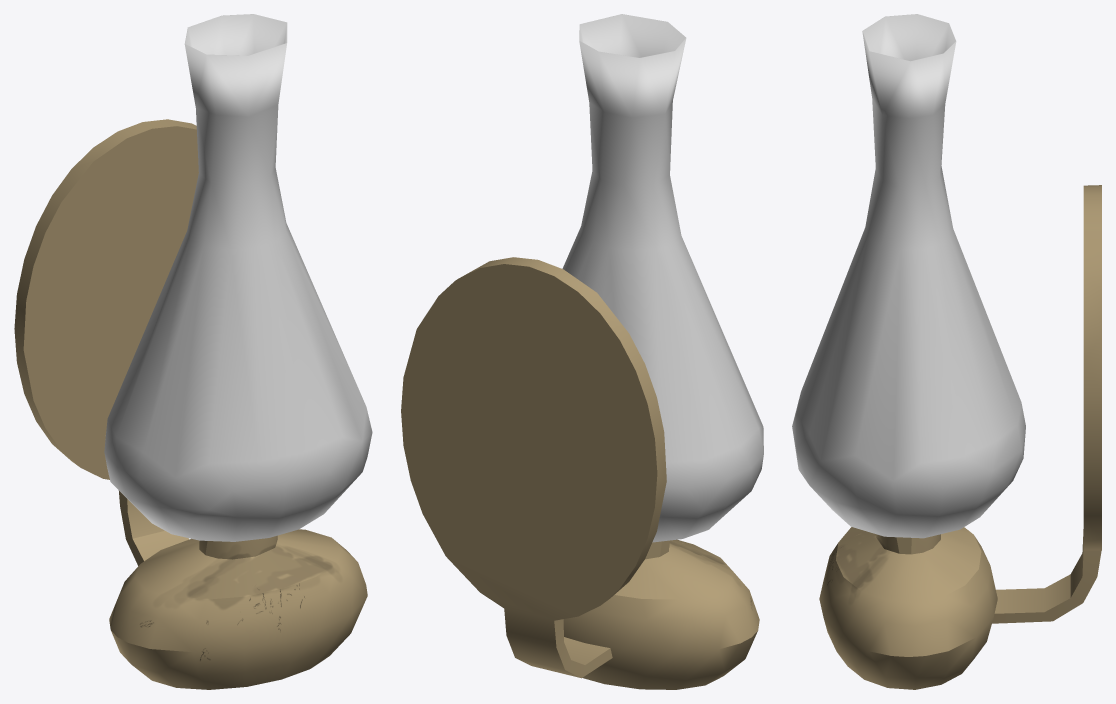
Rendered from Lamp_Wall.fbx.
3 renders of one model, left to right at view 1: azimuth 30°, elevation 25°; view 2: azimuth 150°, elevation 25°; view 3: azimuth 270°, elevation 25°, orthographic.
Parts seen in each view (by area): view 1: Wallamp; view 2: Wallamp; view 3: Wallamp.
Boxes of the visible parts, left/top/right/bottom form: Wallamp: left=14, top=14, right=372, bottom=689; Wallamp: left=401, top=14, right=763, bottom=689; Wallamp: left=792, top=14, right=1101, bottom=689.
Bounding box in the file's own units: 40.3 × 93.21 × 42.95.
